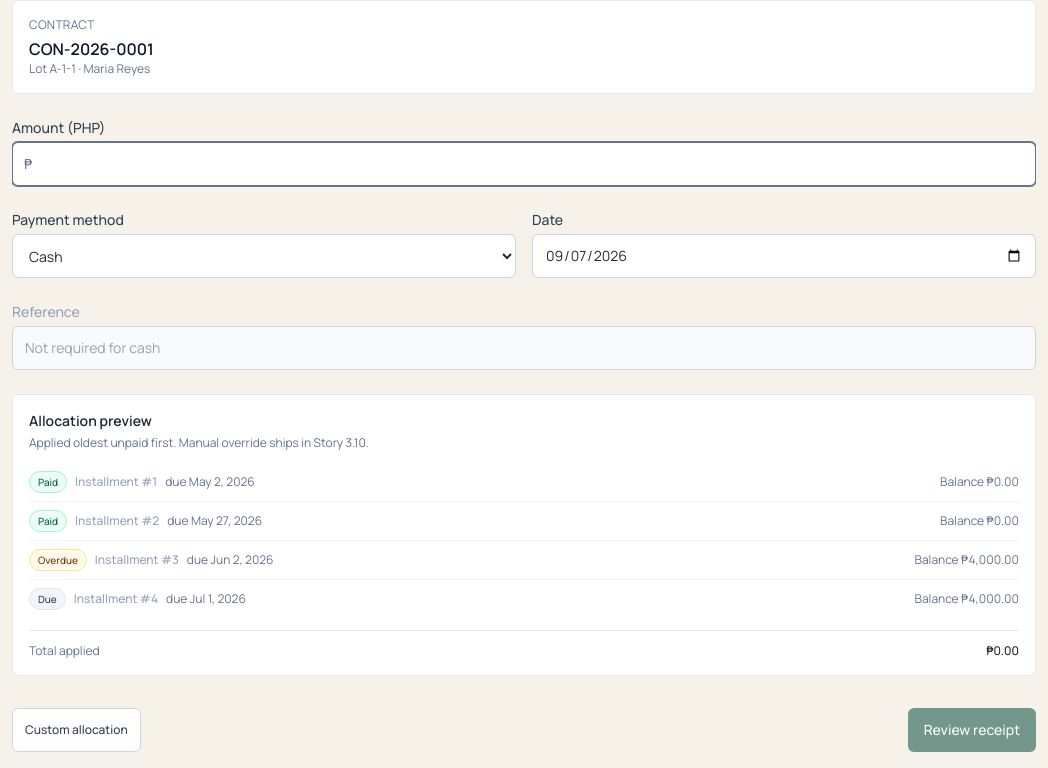
PaymentForm — custom-allocation toggle › enables submit once the row sum matches the payment amount
The width and height of the screenshot is (1048, 768).
Type "4000" into the field with test id "payment-amount-input". click: (524, 164)
box: x1=12 y1=142 x2=1036 y2=186
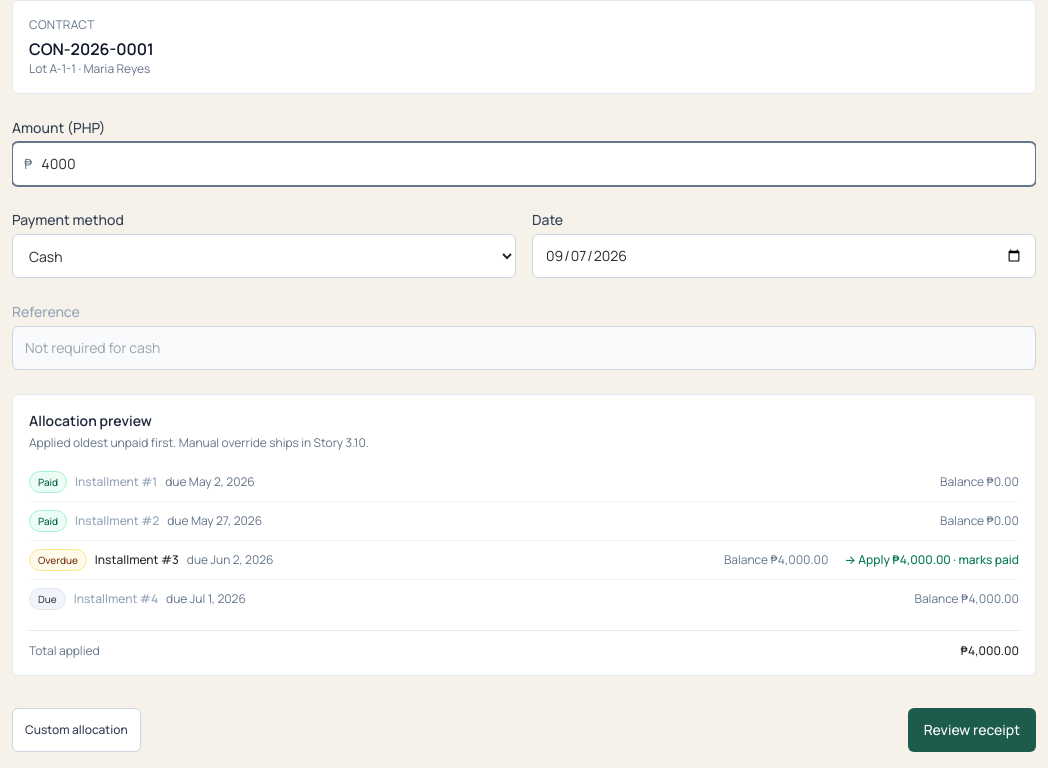
Click the button with test id "payment-form-toggle-custom". click: click(76, 730)
box: x1=12 y1=708 x2=141 y2=752
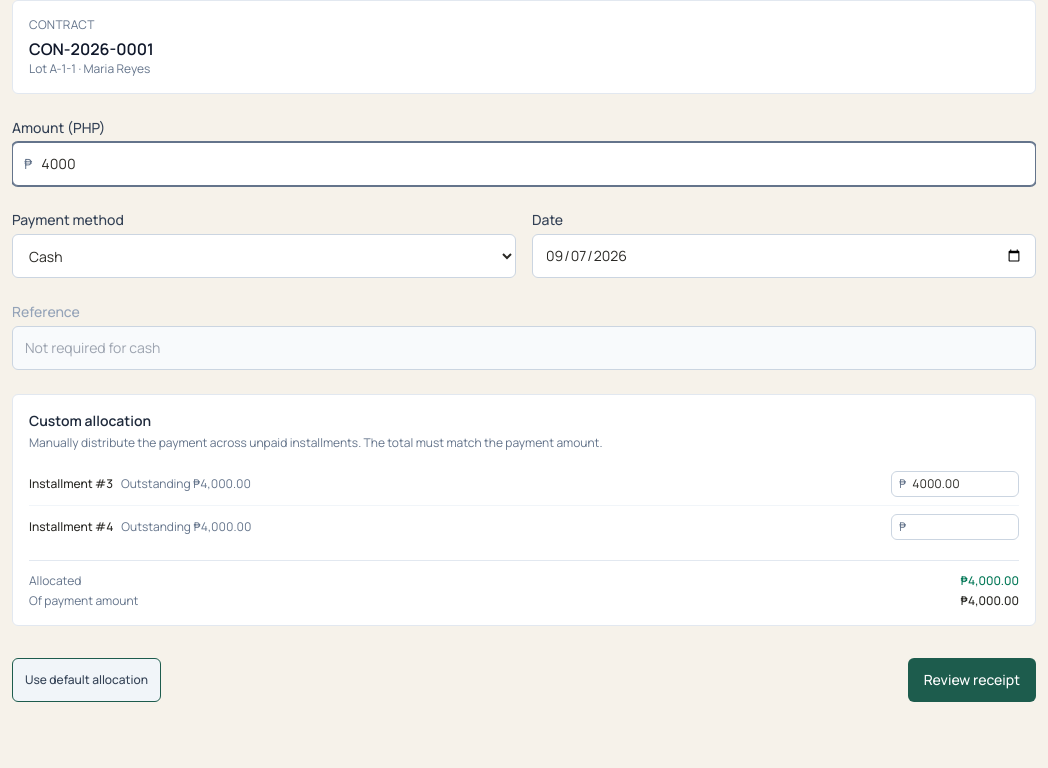
Replace the text in the field with test id "custom-allocation-input-3" with "0". click: (955, 484)
box: x1=891 y1=471 x2=1019 y2=497
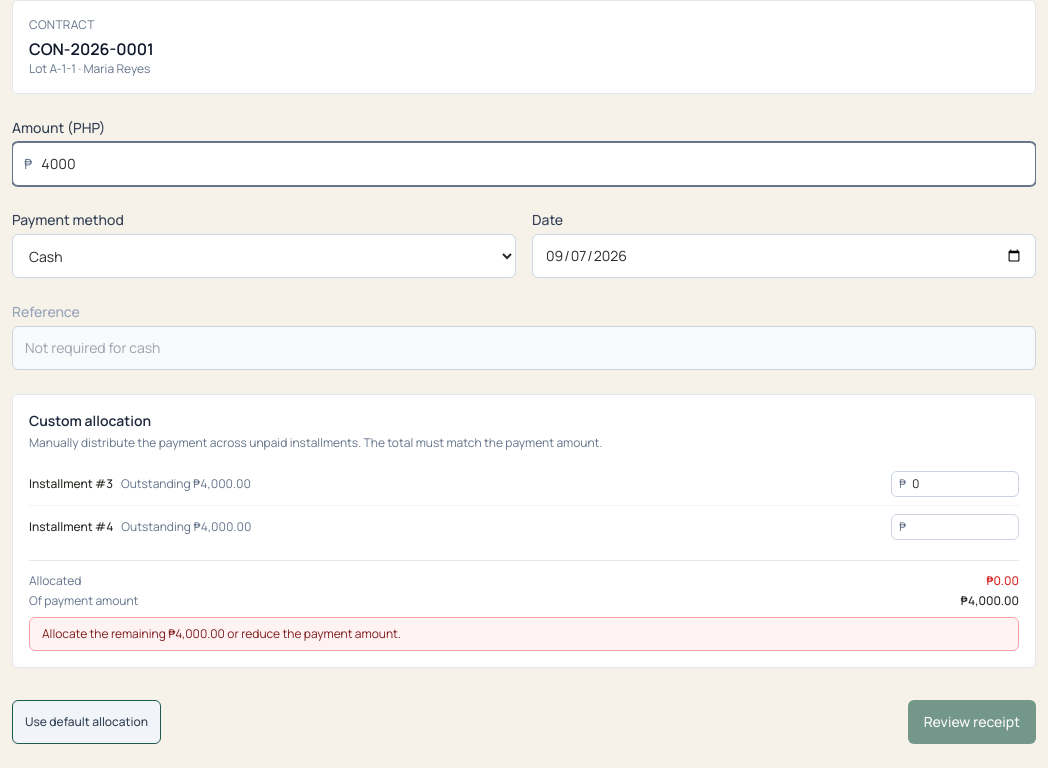
Type "4000" into the field with test id "custom-allocation-input-4". click: (955, 527)
box: x1=891 y1=514 x2=1019 y2=540
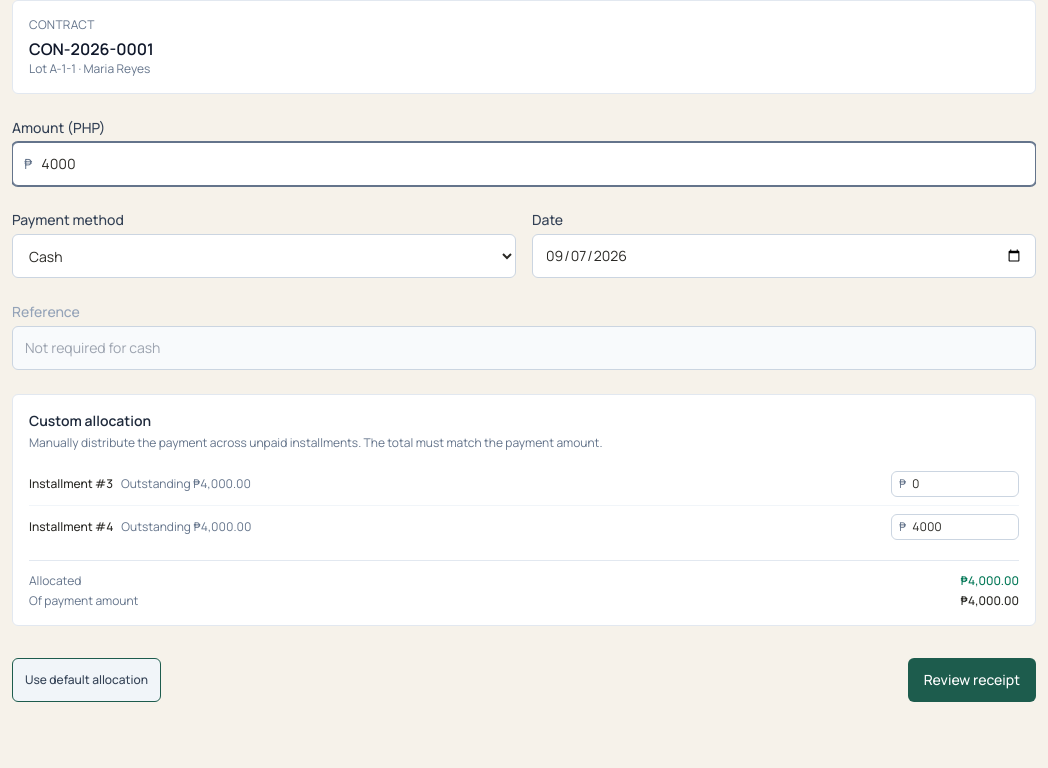
Now the button with test id "payment-form-submit" is enabled, box x1=908 y1=658 x2=1036 y2=702
Now the message with test id "custom-allocation-sum-mismatch" is gone
